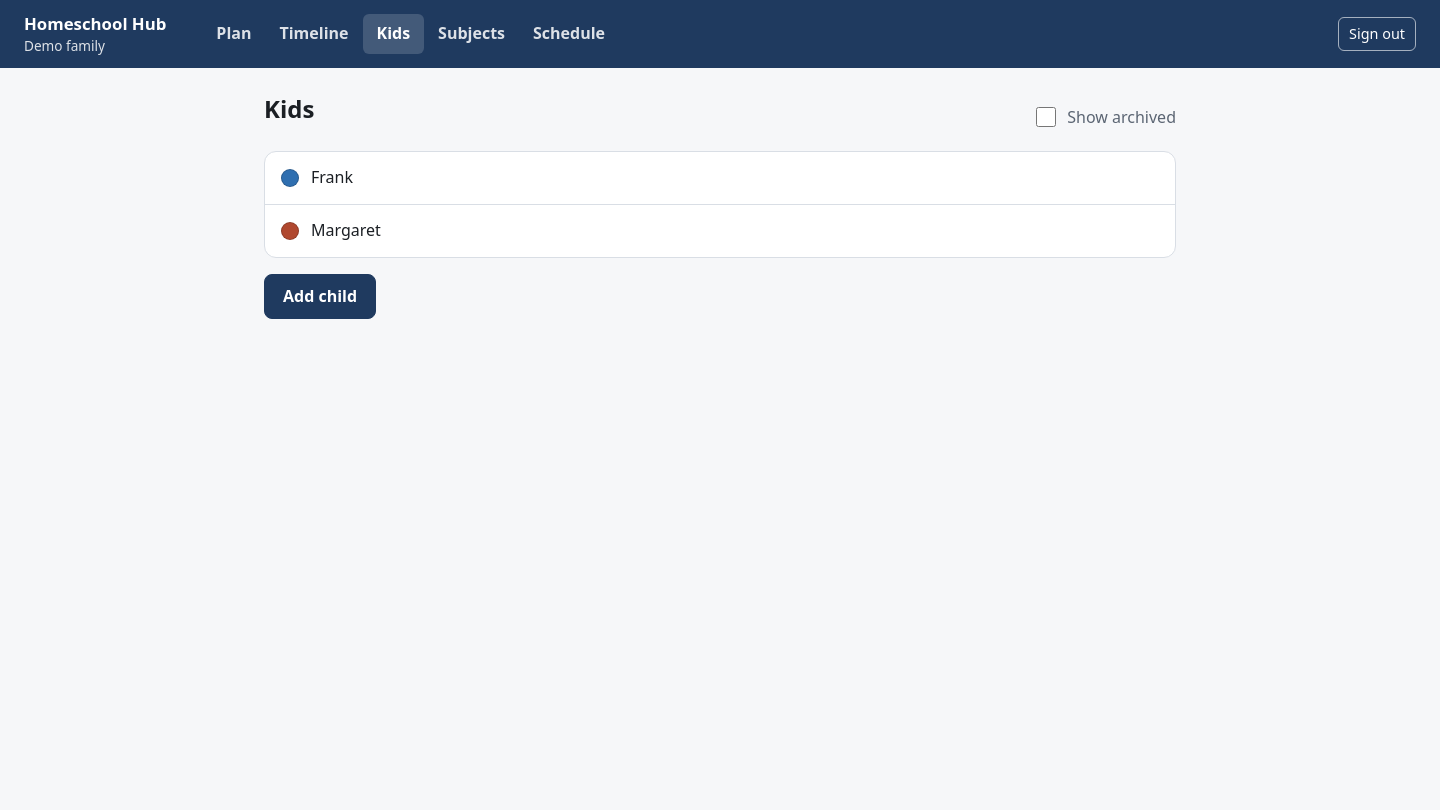
it: Edit child › archive asks for confirmation, then hides the row
Expected: the list named "Kids" is shown, [264, 151, 1176, 258]
Click the button "Frank". click: coordinates (332, 177)
box: [265, 152, 1175, 204]
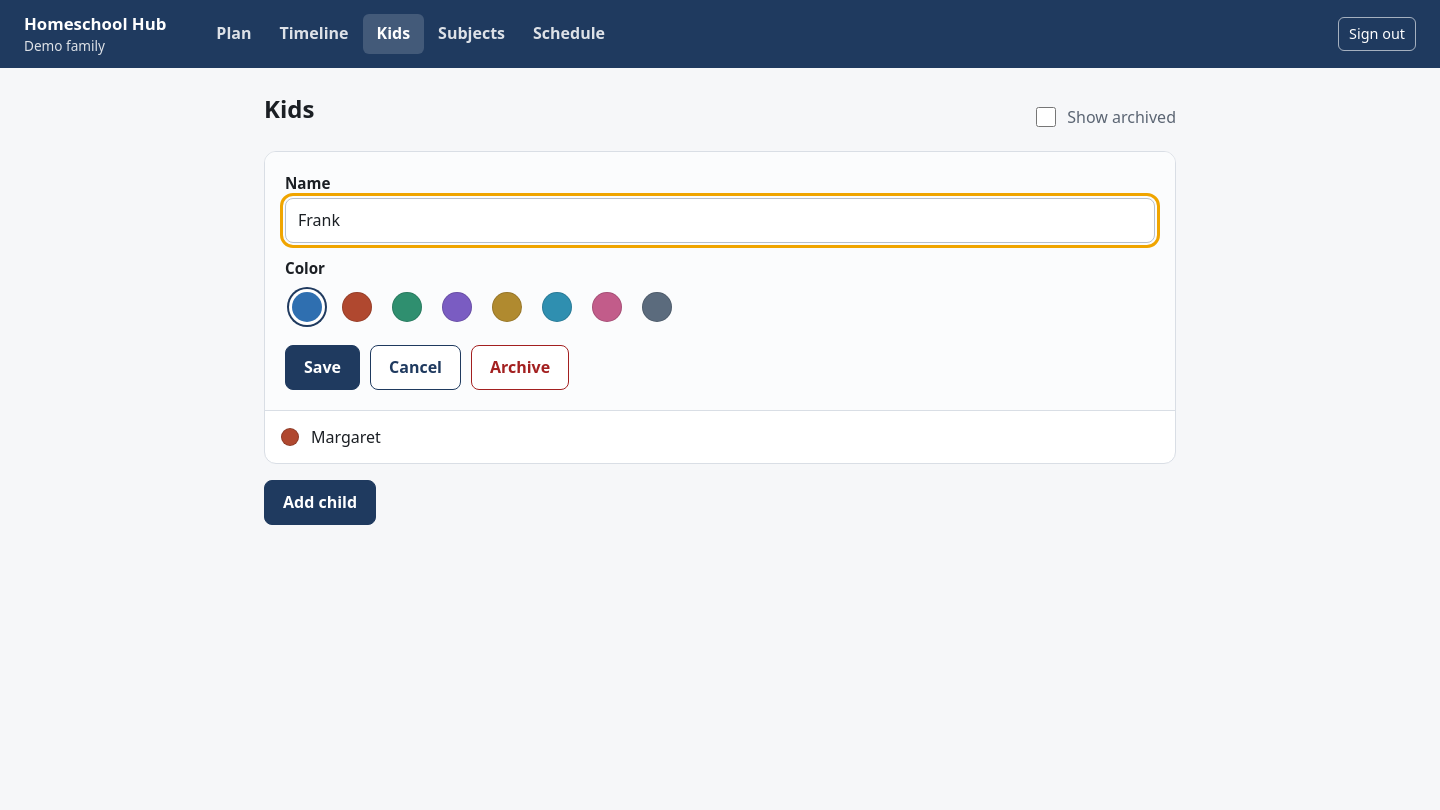
Click the button "Archive". click: coordinates (520, 368)
box: [471, 345, 569, 390]
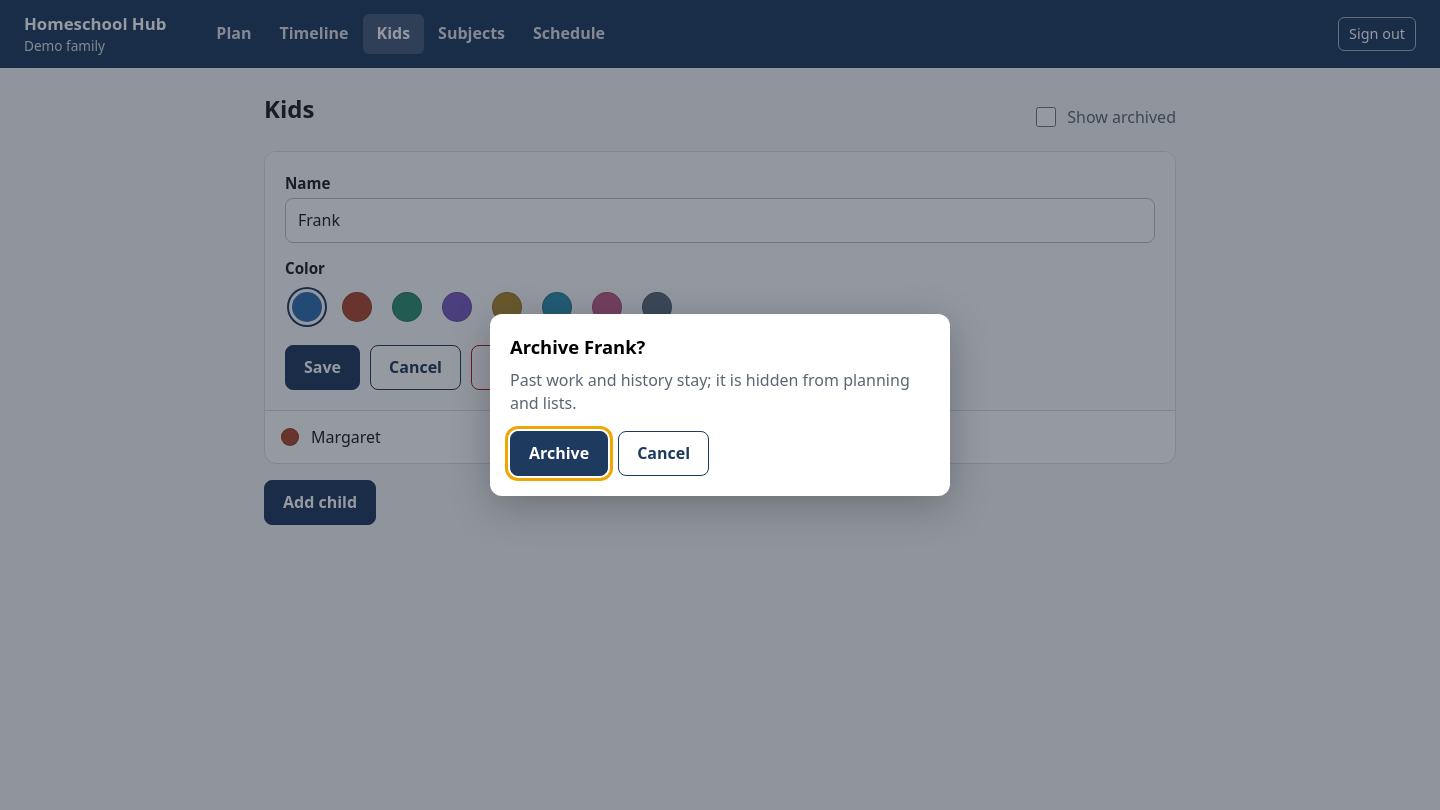
Now the dialog "Archive Frank?" shows "Past work and history stay; it is hidden from planning and lists.", box [510, 369, 910, 414]
Click the button "Archive". click: coordinates (559, 454)
box: [510, 431, 608, 476]
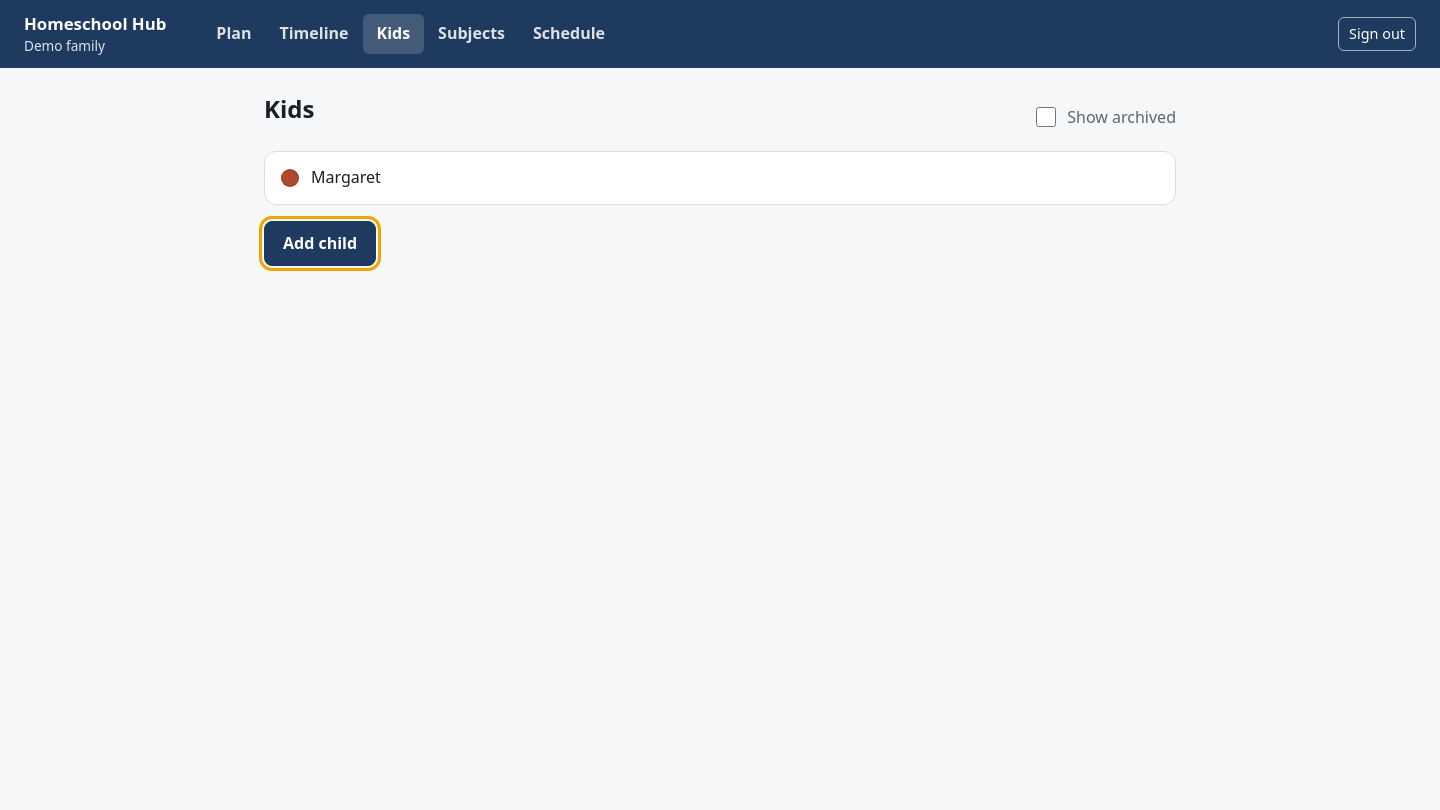
Expected: the button "Add child" is shown, [264, 221, 376, 266]
Now the dialog is gone
